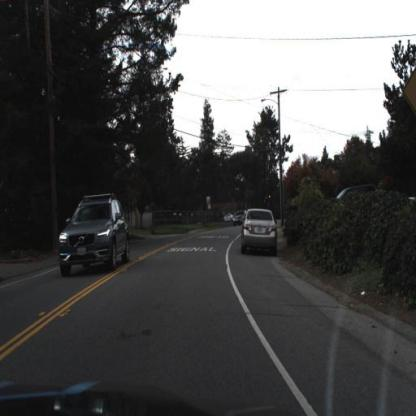car: (58, 193, 131, 281), (238, 207, 279, 257), (334, 176, 382, 214)
